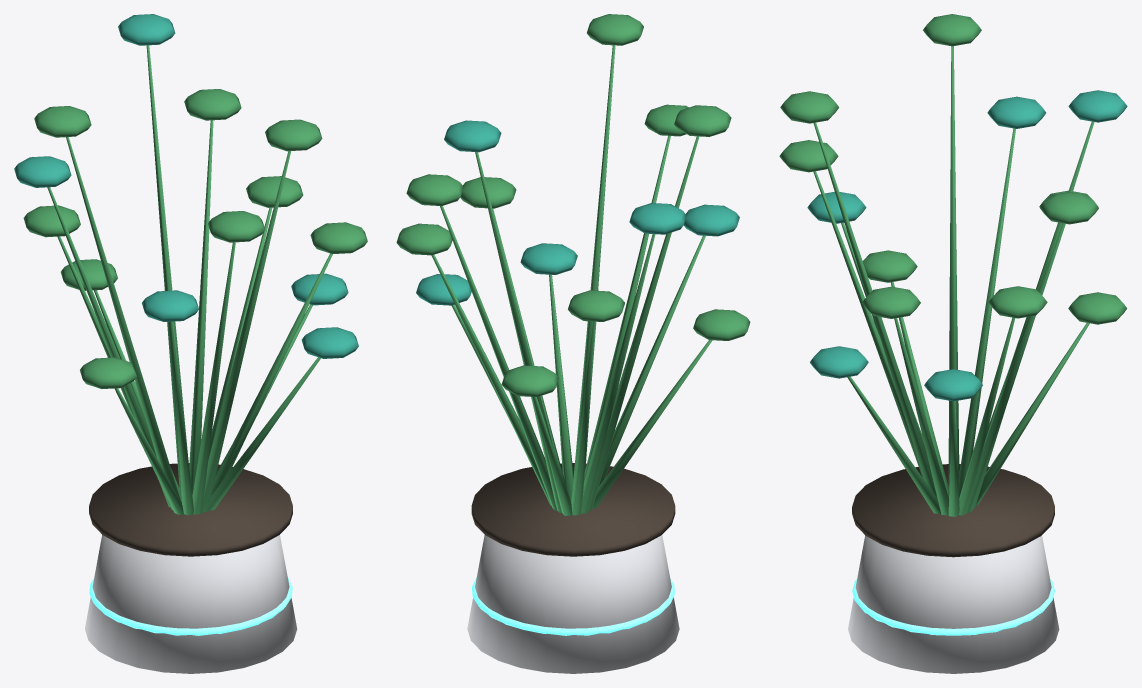
The model's file is plant_fern_pod.glb.
The picture shows the model from 3 angles, left to right: view 1: azimuth 30°, elevation 25°; view 2: azimuth 150°, elevation 25°; view 3: azimuth 270°, elevation 25°; orthographic projection.
Parts seen in each view (by area): view 1: GD_plant_fern_pod__m3, GD_plant_fern_pod__m0, GD_plant_fern_pod__m1, GD_plant_fern_pod__m2, GD_plant_fern_pod__m4; view 2: GD_plant_fern_pod__m3, GD_plant_fern_pod__m0, GD_plant_fern_pod__m1, GD_plant_fern_pod__m2, GD_plant_fern_pod__m4; view 3: GD_plant_fern_pod__m3, GD_plant_fern_pod__m0, GD_plant_fern_pod__m1, GD_plant_fern_pod__m2, GD_plant_fern_pod__m4.
Boxes of the visible parts, x1=… form: GD_plant_fern_pod__m3: x1=23, y1=45, x2=367, y2=515; GD_plant_fern_pod__m0: x1=85, y1=535, x2=297, y2=673; GD_plant_fern_pod__m1: x1=89, y1=463, x2=292, y2=556; GD_plant_fern_pod__m2: x1=14, y1=14, x2=358, y2=358; GD_plant_fern_pod__m4: x1=89, y1=577, x2=292, y2=635; GD_plant_fern_pod__m3: x1=396, y1=14, x2=750, y2=515; GD_plant_fern_pod__m0: x1=467, y1=535, x2=679, y2=673; GD_plant_fern_pod__m1: x1=471, y1=463, x2=675, y2=556; GD_plant_fern_pod__m2: x1=416, y1=120, x2=739, y2=305; GD_plant_fern_pod__m4: x1=472, y1=577, x2=674, y2=635; GD_plant_fern_pod__m3: x1=779, y1=14, x2=1126, y2=516; GD_plant_fern_pod__m0: x1=848, y1=535, x2=1059, y2=673; GD_plant_fern_pod__m1: x1=852, y1=464, x2=1054, y2=557; GD_plant_fern_pod__m2: x1=807, y1=90, x2=1127, y2=401; GD_plant_fern_pod__m4: x1=852, y1=578, x2=1054, y2=635.
Size of the model in its own units: 0.84 by 1.43 by 0.8236.
